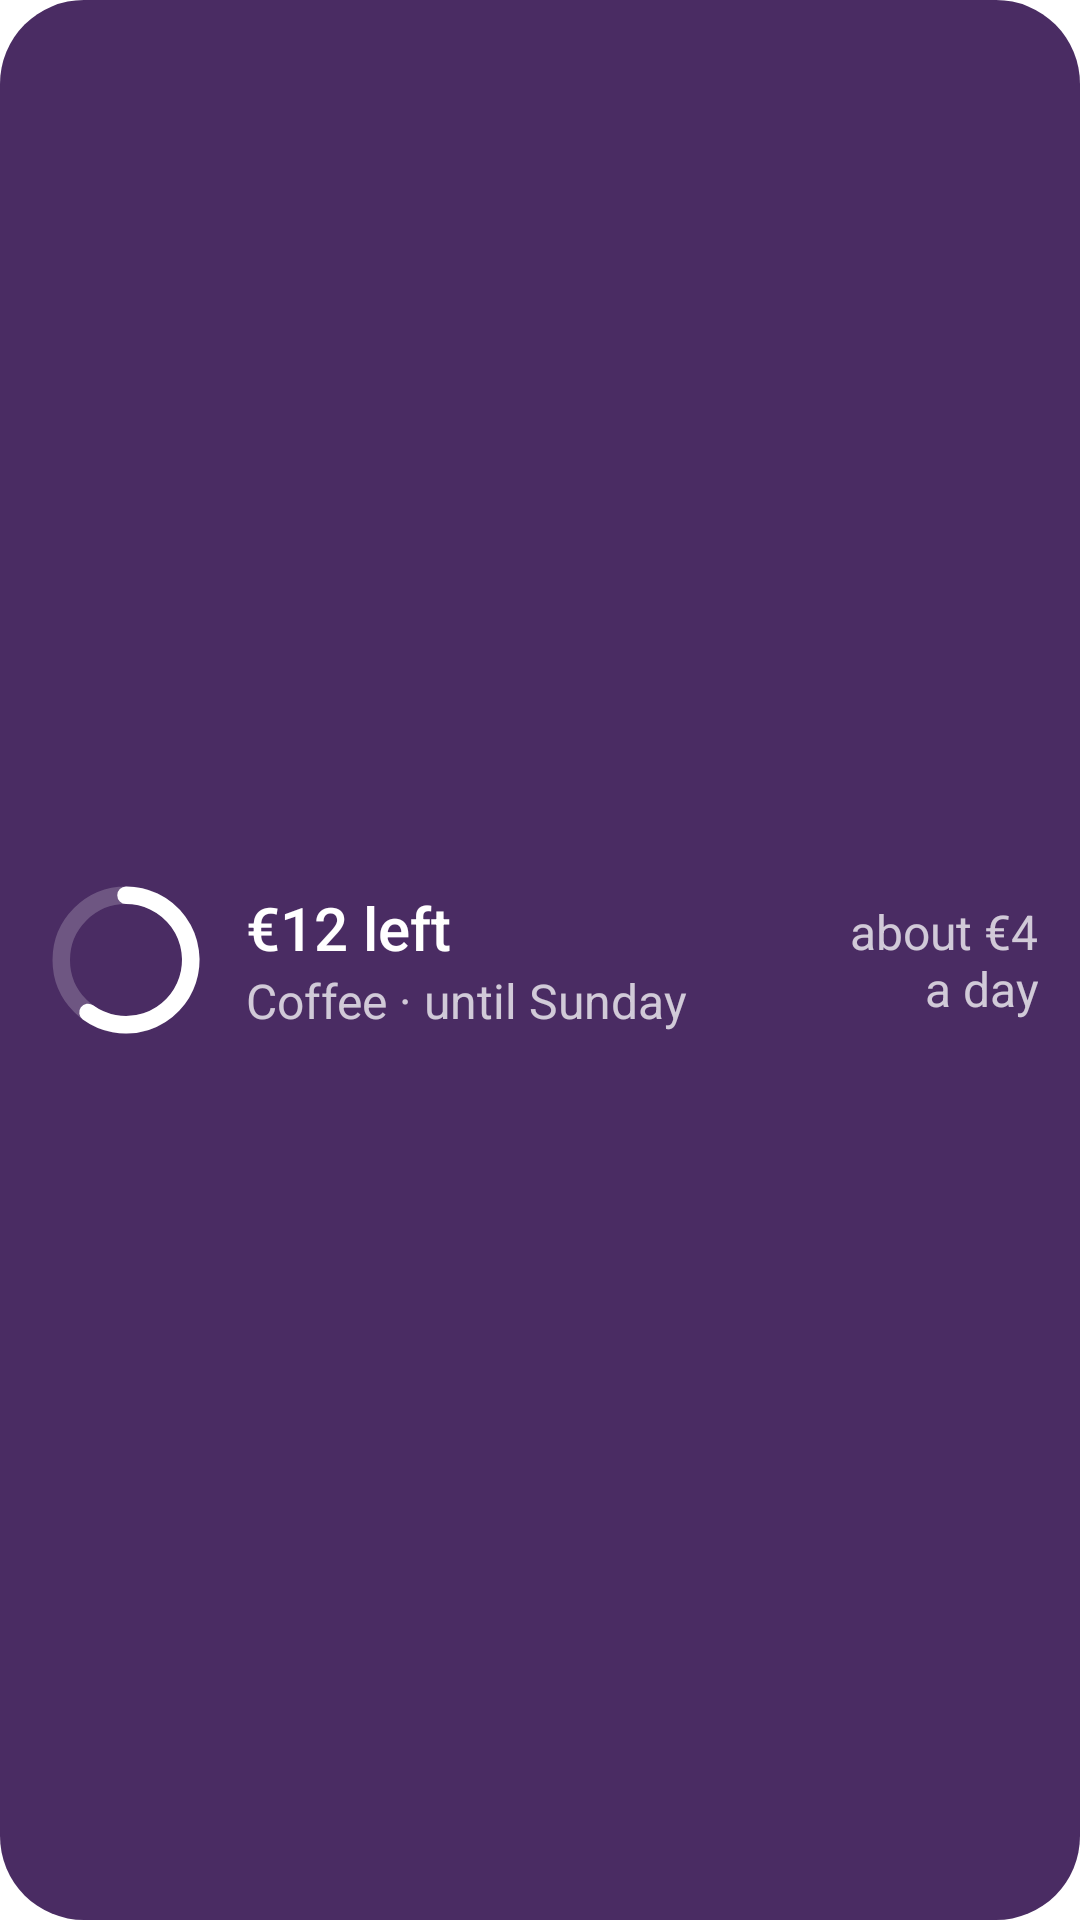

Where icons sit on this 1080px x 1920px app screen, as detection(x1, y1, x2, y2):
widget ring: detection(53, 886, 200, 1034)
